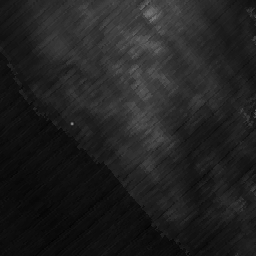Target: (69, 121, 75, 127)
